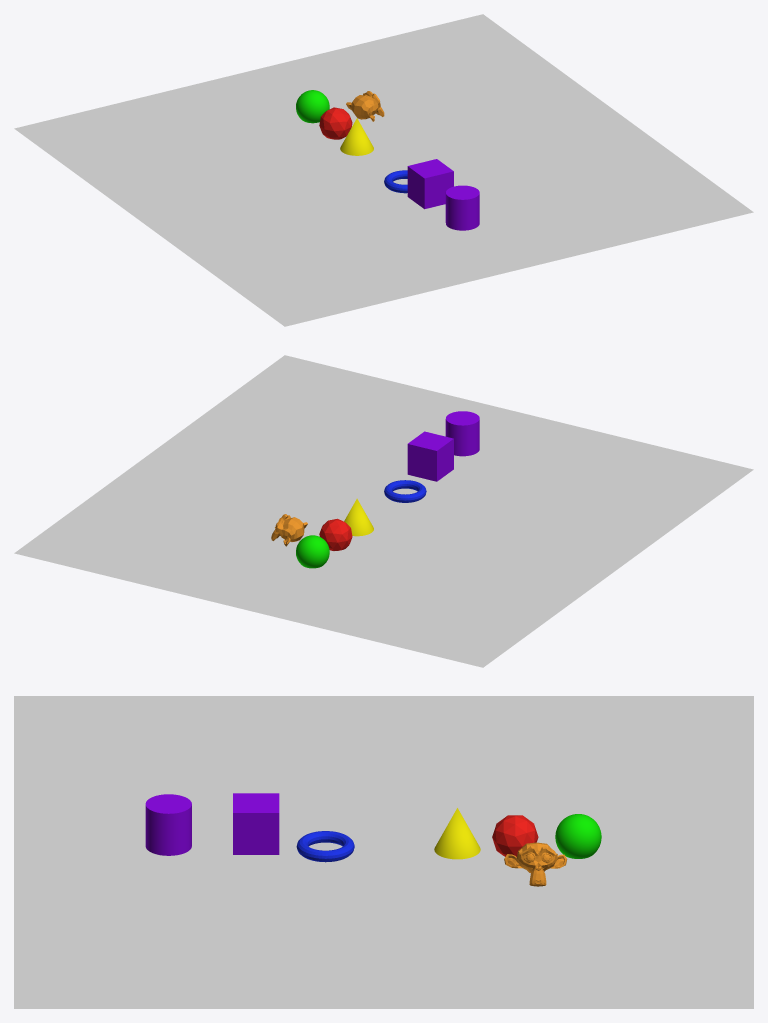
File: mats.glb
The picture shows the model from 3 angles, top to bottom: view 1: azimuth 30°, elevation 25°; view 2: azimuth 150°, elevation 25°; view 3: azimuth 270°, elevation 25°; orthographic projection. The views are drawn at different scales.
Parts seen in each view (by area): view 1: Plane, Cube, Cylinder, Sphere, Icosphere, Cone, Suzanne; view 2: Plane, Cube, Cylinder, Sphere, Icosphere, Suzanne, Torus, Cone; view 3: Plane, Cube, Cylinder, Sphere, Suzanne, Cone, Icosphere, Torus.
Boxes of the visible parts, x1,y1,x2,y2 form: Plane: [14, 14, 753, 326]; Cube: [407, 159, 453, 209]; Cylinder: [445, 185, 479, 230]; Sphere: [296, 90, 329, 123]; Icosphere: [319, 107, 352, 139]; Cone: [340, 118, 373, 155]; Suzanne: [346, 91, 384, 121]; Plane: [14, 355, 753, 667]; Cube: [407, 431, 453, 481]; Cylinder: [445, 411, 479, 456]; Sphere: [296, 535, 329, 568]; Icosphere: [319, 518, 352, 550]; Suzanne: [271, 514, 307, 546]; Torus: [384, 480, 426, 502]; Cone: [344, 498, 373, 536]; Plane: [14, 696, 753, 1008]; Cube: [233, 793, 279, 854]; Cylinder: [145, 794, 191, 855]; Sphere: [555, 814, 601, 858]; Suzanne: [504, 842, 567, 886]; Cone: [434, 808, 480, 859]; Icosphere: [492, 815, 538, 856]; Torus: [296, 831, 354, 862].
Size of the model in its own units: 31.89 by 2.61 by 31.89.
